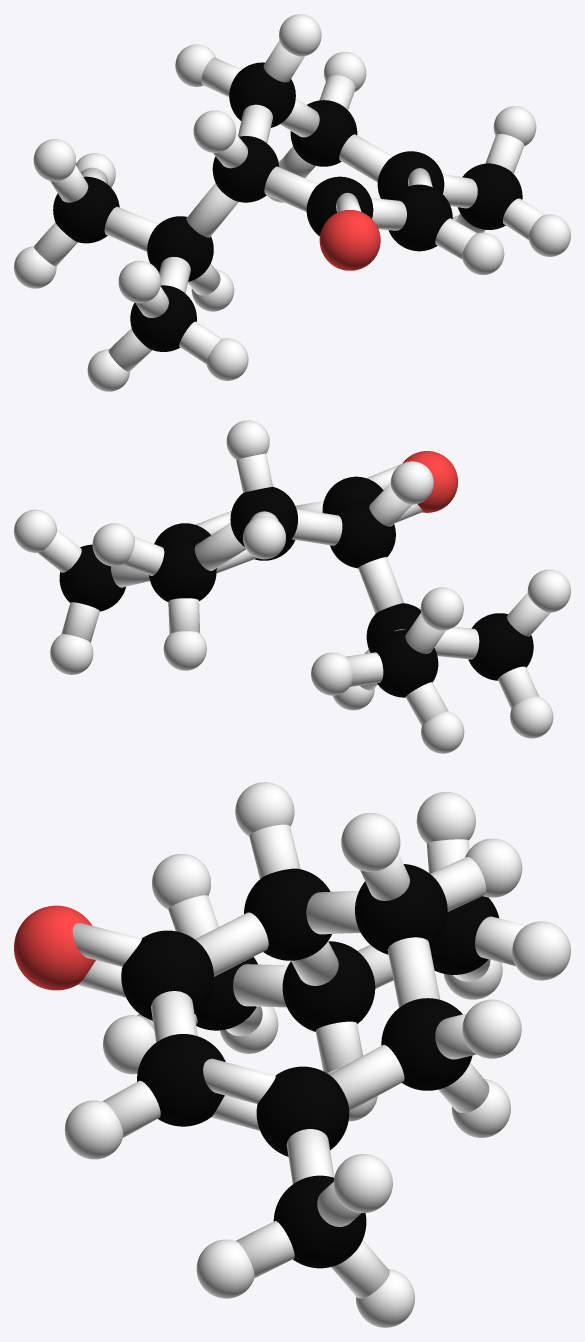
3 views of the same model, one above another, from view 1: azimuth 30°, elevation 25°; view 2: azimuth 150°, elevation 25°; view 3: azimuth 270°, elevation 25° (orthographic). The views are drawn at different scales.
Parts seen in each view (by area): view 1: molecule; view 2: molecule; view 3: molecule.
Boxes of the visible parts, box(x1,y1,x2,y2) form: molecule: box(14, 14, 570, 391); molecule: box(14, 420, 570, 753); molecule: box(14, 782, 570, 1327).
Size of the model in its own units: 7.88 by 4.42 by 5.65.
